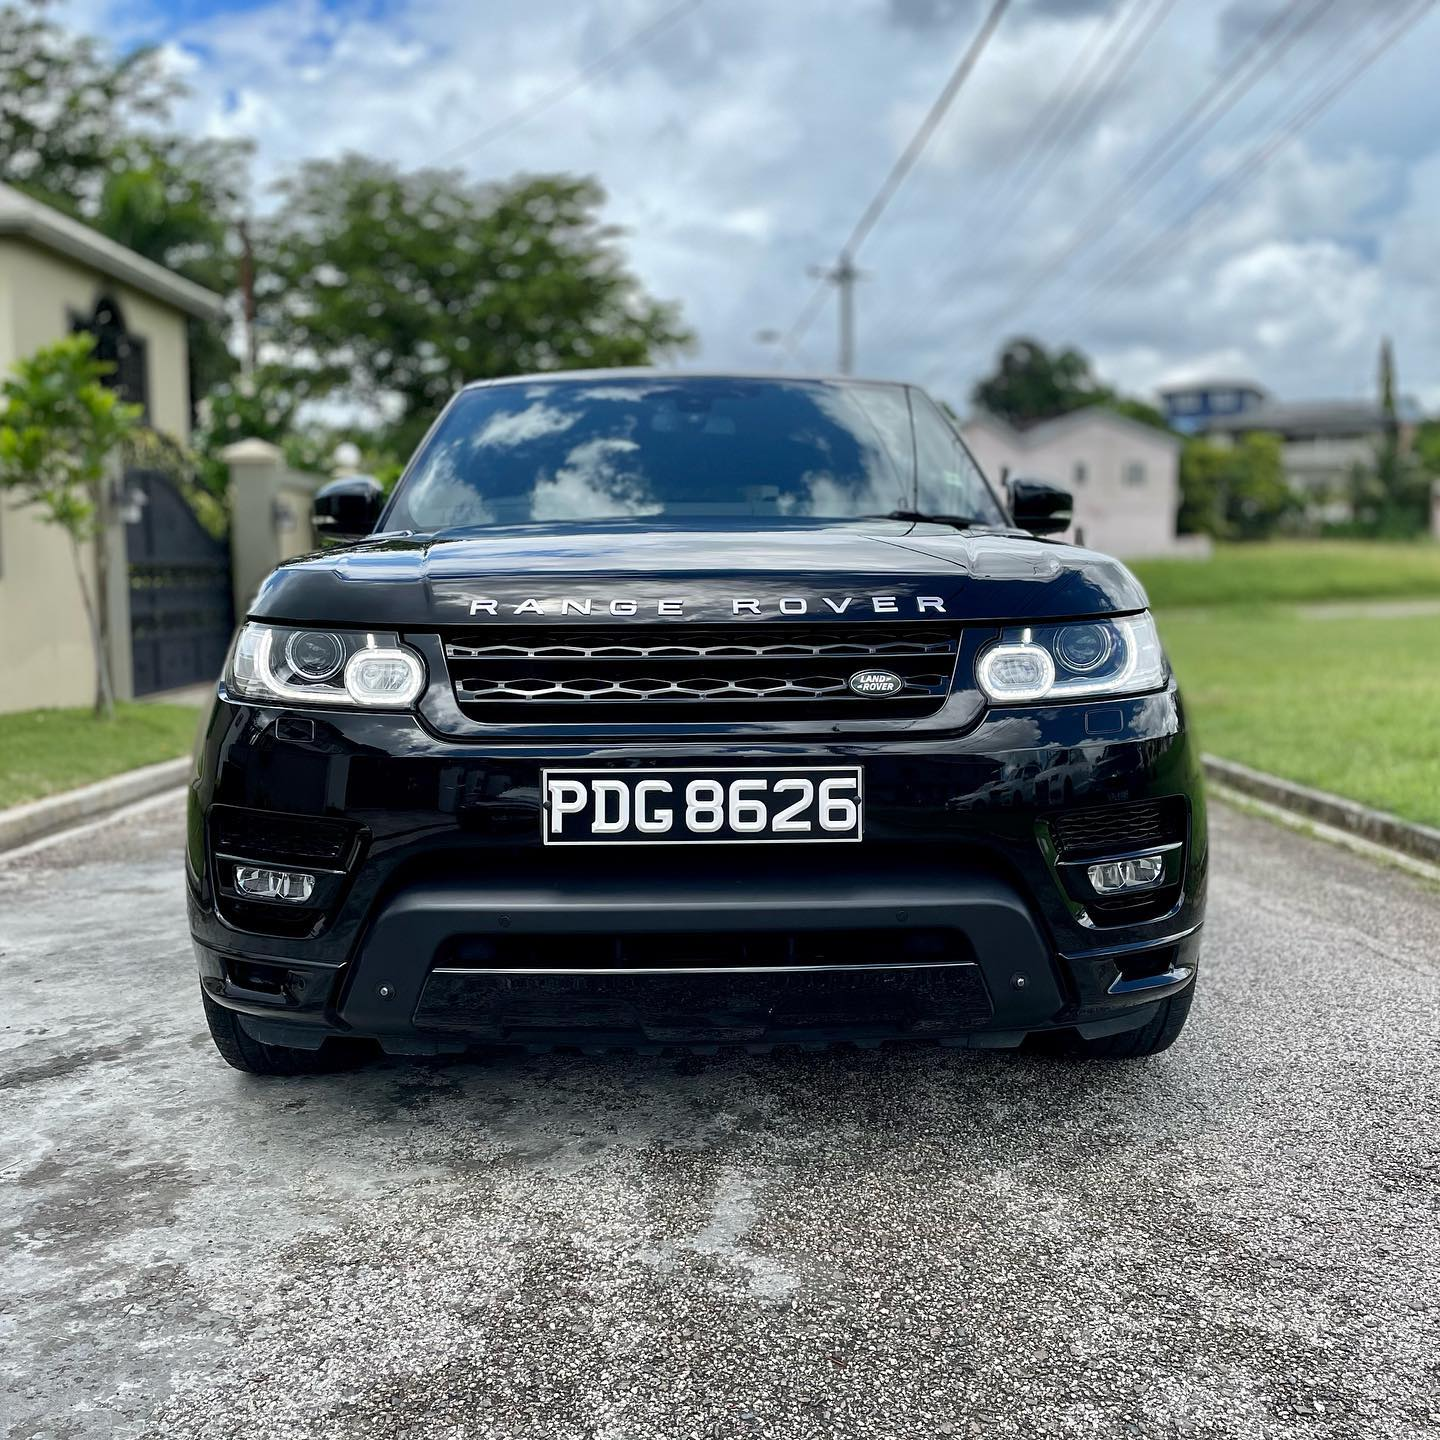License-Plate: (544, 771, 858, 844)
